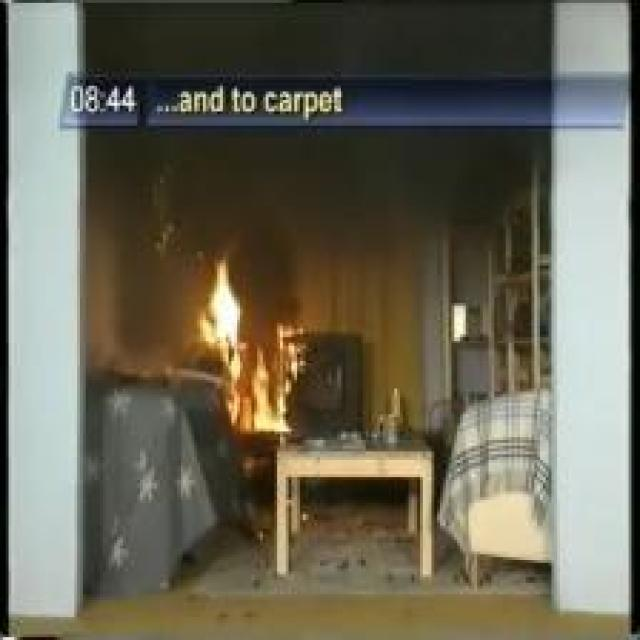Fire: (194, 252, 300, 442)
